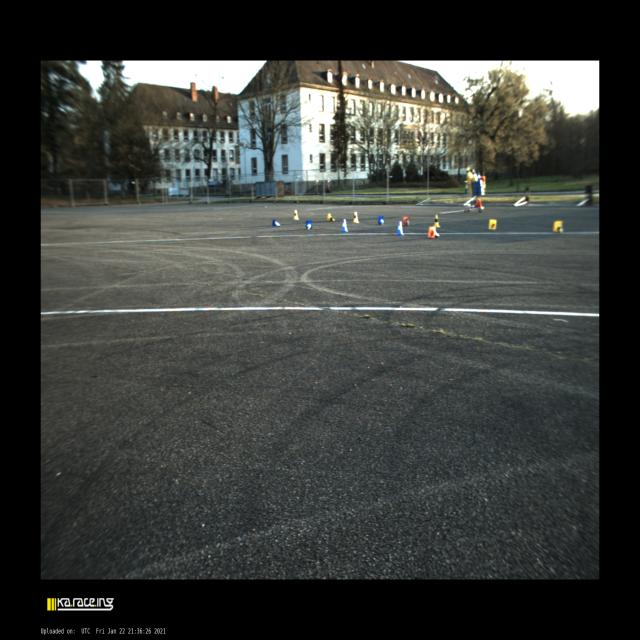blue_cone: (396, 221, 404, 236), (341, 219, 348, 232), (272, 219, 281, 227), (306, 220, 312, 230), (378, 216, 384, 225)
orange_cone: (428, 226, 439, 238), (403, 217, 410, 226)
yellow_cone: (553, 220, 563, 232), (488, 219, 496, 230), (434, 215, 441, 227), (353, 212, 359, 223), (327, 214, 335, 222), (294, 210, 298, 220)
